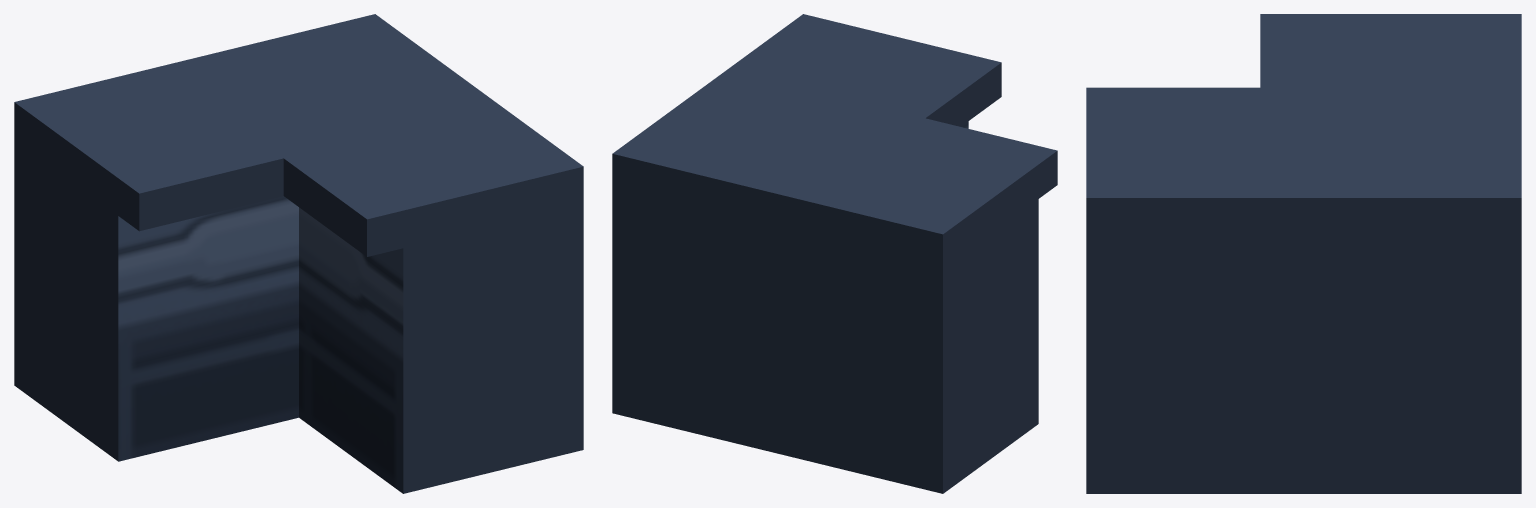
The model's file is Counter_Corner1.fbx.
The picture shows the model from 3 angles, left to right: view 1: azimuth 30°, elevation 25°; view 2: azimuth 150°, elevation 25°; view 3: azimuth 270°, elevation 25°; orthographic projection. The views are drawn at different scales.
Parts seen in each view (by area): view 1: Cube.013; view 2: Cube.013; view 3: Cube.013.
Boxes of the visible parts, <box> form: Cube.013: <box>14,14,583,493</box>; Cube.013: <box>612,14,1057,493</box>; Cube.013: <box>1086,14,1521,493</box>.
Bounding box in the file's own units: 200 × 150 × 200.
